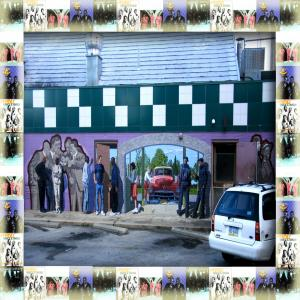Vehicle-registration-plate: (229, 228, 239, 237)
